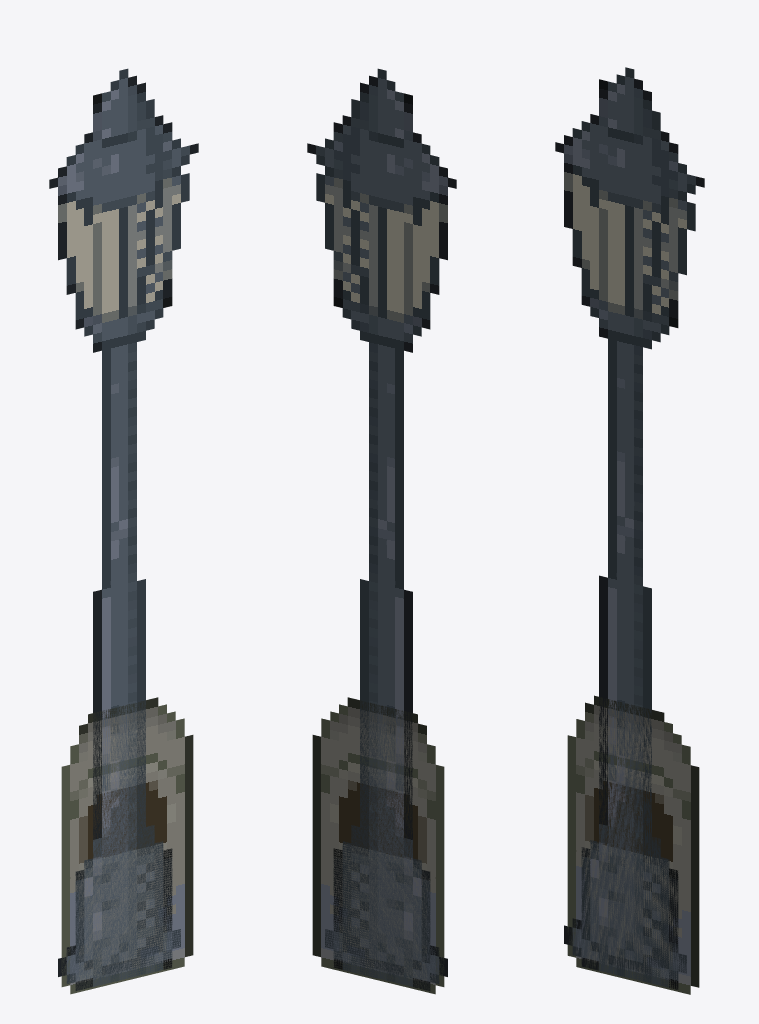
The model's file is Props.gltf.
3 renders of one model, left to right at view 1: azimuth 30°, elevation 25°; view 2: azimuth 150°, elevation 25°; view 3: azimuth 330°, elevation 25°, orthographic.
Parts seen in each view (by area): view 1: street_light-col, rubbish_bin-col; view 2: street_light-col, rubbish_bin-col; view 3: street_light-col, rubbish_bin-col.
Boxes of the visible parts, x1,y1,x2,y2 form: street_light-col: [49, 68, 198, 990]; rubbish_bin-col: [61, 697, 193, 994]; street_light-col: [307, 68, 456, 990]; rubbish_bin-col: [312, 697, 444, 994]; street_light-col: [555, 67, 704, 989]; rubbish_bin-col: [567, 695, 699, 994].
Bounding box in the file's own units: 2 × 8 × 0.
Materials: 1 (1 with a texture image).
